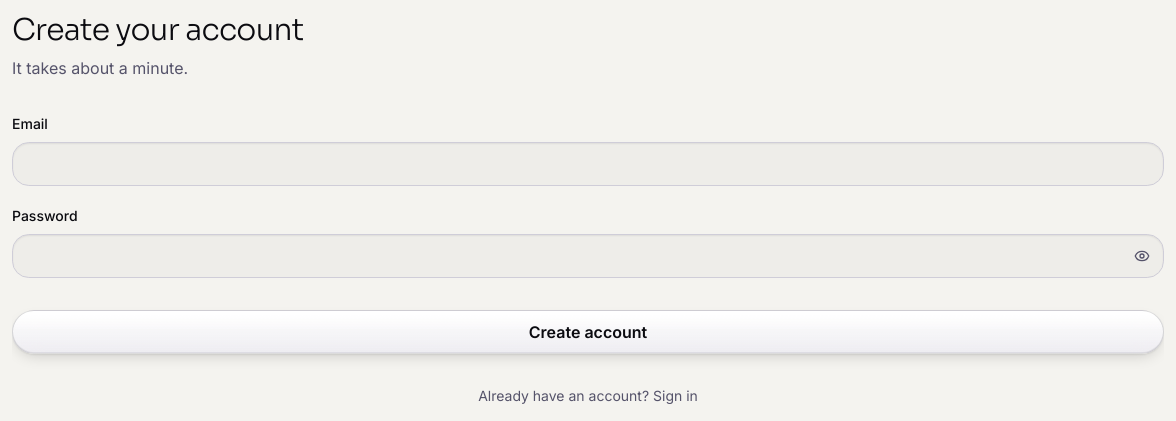
Test: creating an account › a valid form creates the account and asks for the emailed code
Type " asha@example.com " into the field labelled "Email" at coordinates (588, 164), box [12,142,1164,186]
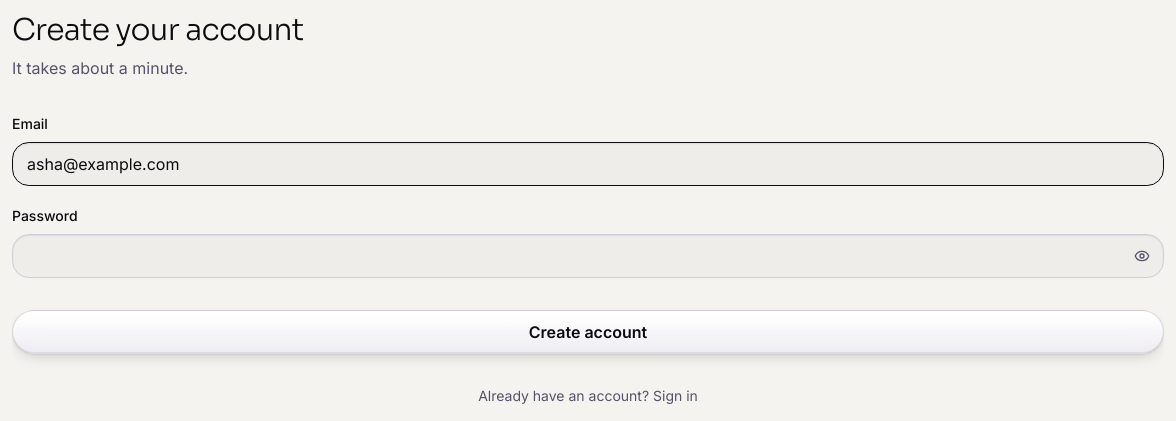
Type "Secret123" into the password field labelled "Password" at coordinates (588, 256), box [12,234,1164,278]
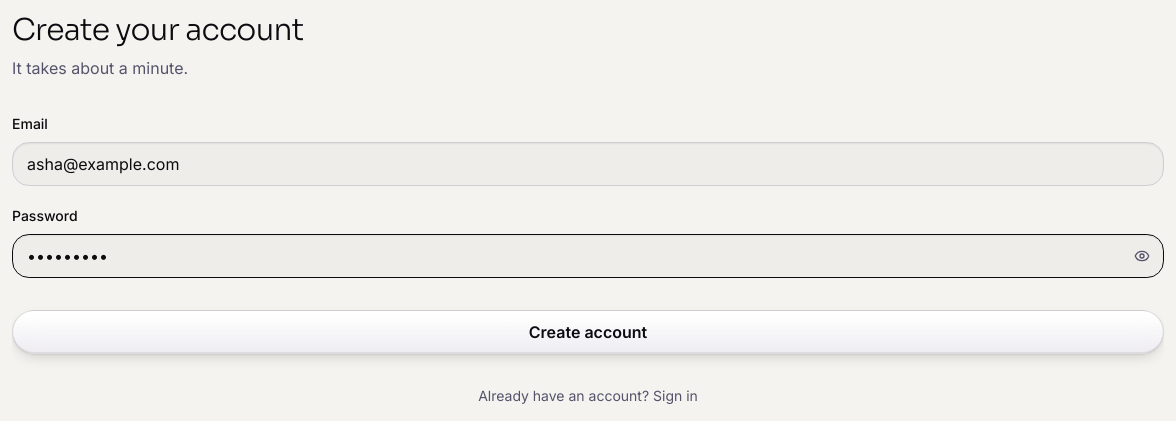
Click the button "Create account" at coordinates (588, 332), box [12,310,1164,354]
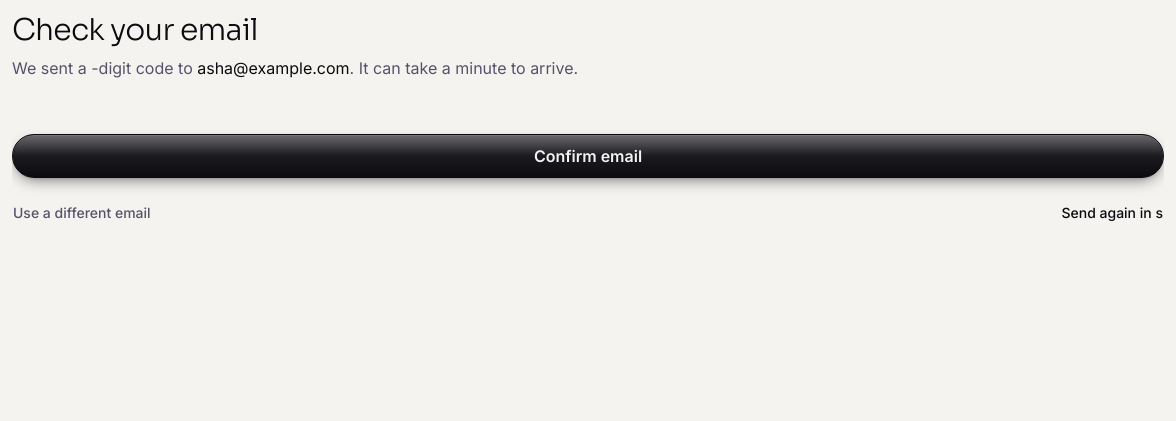
Expected: the heading "Check your email" is shown, [12,11,258,49]
Expected: the text "asha@example.com" is shown, [197,58,350,78]
